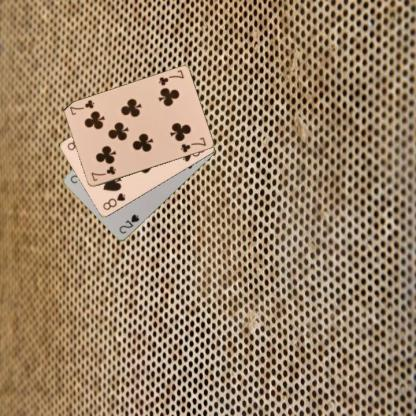2s: (117, 212, 140, 235)
7c: (156, 68, 185, 87), (88, 164, 117, 182)
8s: (100, 190, 126, 212)
